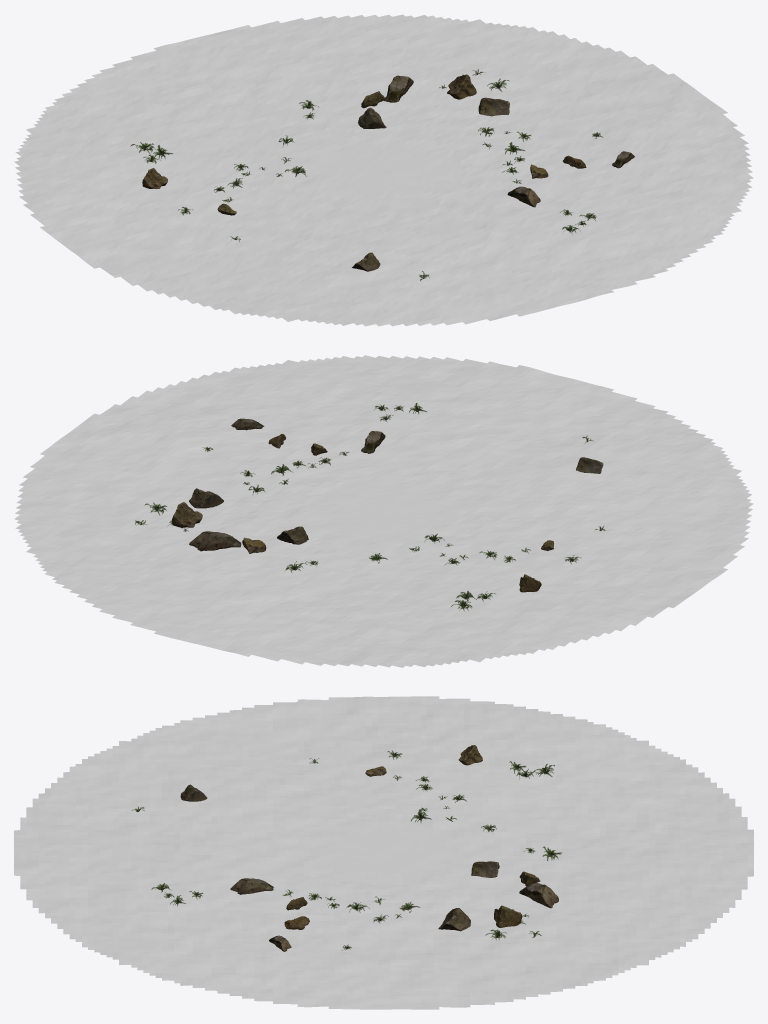
The model's file is hold-field.glb.
The picture shows the model from 3 angles, top to bottom: view 1: azimuth 30°, elevation 25°; view 2: azimuth 150°, elevation 25°; view 3: azimuth 270°, elevation 25°; orthographic projection.
Visible parts, largest first — view 1: terrain, rocks, ferns; view 2: terrain, rocks, ferns; view 3: terrain, rocks, ferns.
Part boxes in pixels (box(x1,y1,x2,y2)): terrain: box(14, 14, 753, 326); rocks: box(142, 74, 634, 271); ferns: box(130, 69, 602, 280); terrain: box(14, 355, 753, 667); rocks: box(171, 418, 603, 592); ferns: box(135, 403, 605, 610); terrain: box(14, 696, 753, 1009); rocks: box(180, 745, 558, 951); ferns: box(131, 750, 561, 950).
Bounding box in the file's own units: 44 × 1.54 × 44.
3 materials, 2 textured.
